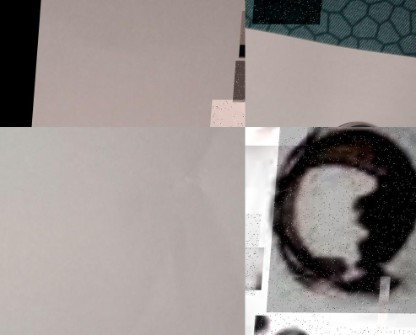ironball: (270, 127, 415, 313)
